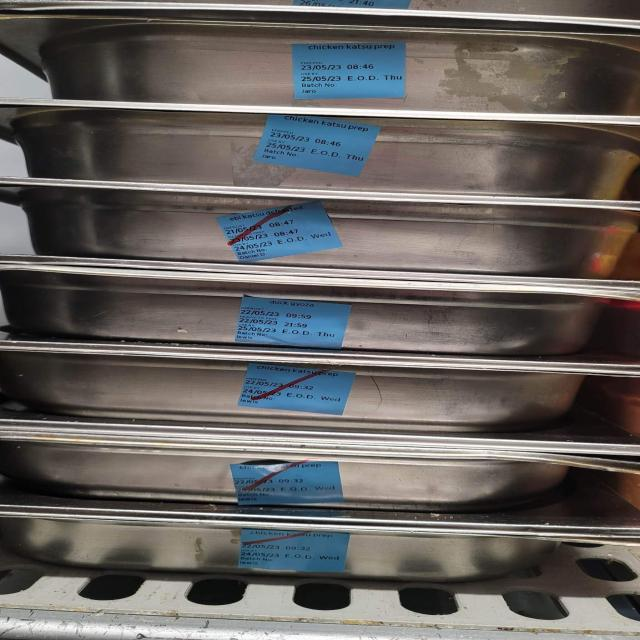product-labels: (217, 196, 343, 265), (254, 113, 380, 179), (294, 41, 406, 100), (234, 297, 354, 350), (237, 363, 354, 417), (230, 460, 344, 506), (237, 530, 349, 572)
